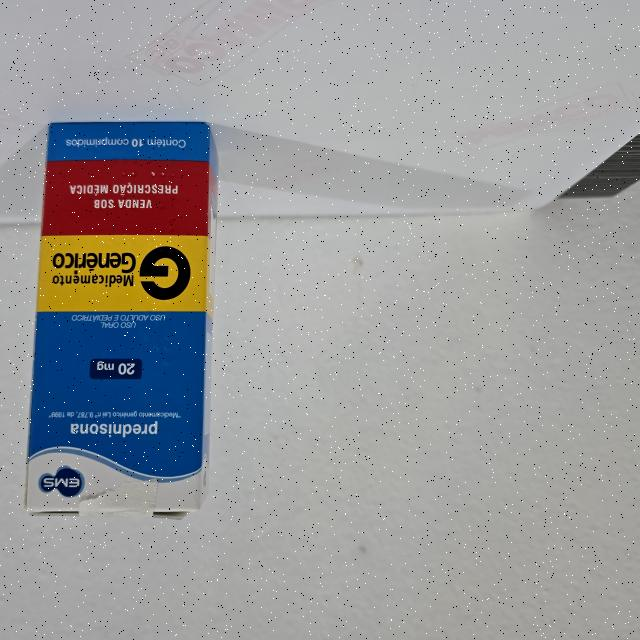prednisona: (21, 116, 224, 524)
